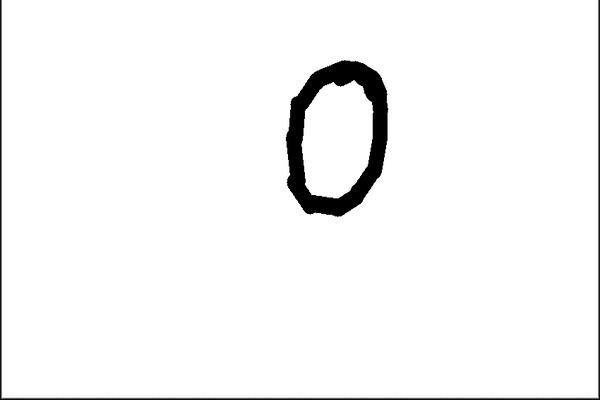O: (271, 50, 390, 221)
